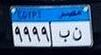9: (41, 25, 51, 43), (23, 25, 32, 43), (14, 25, 23, 43), (32, 26, 41, 43)
baa: (58, 28, 70, 44)
noon: (71, 26, 83, 43)
